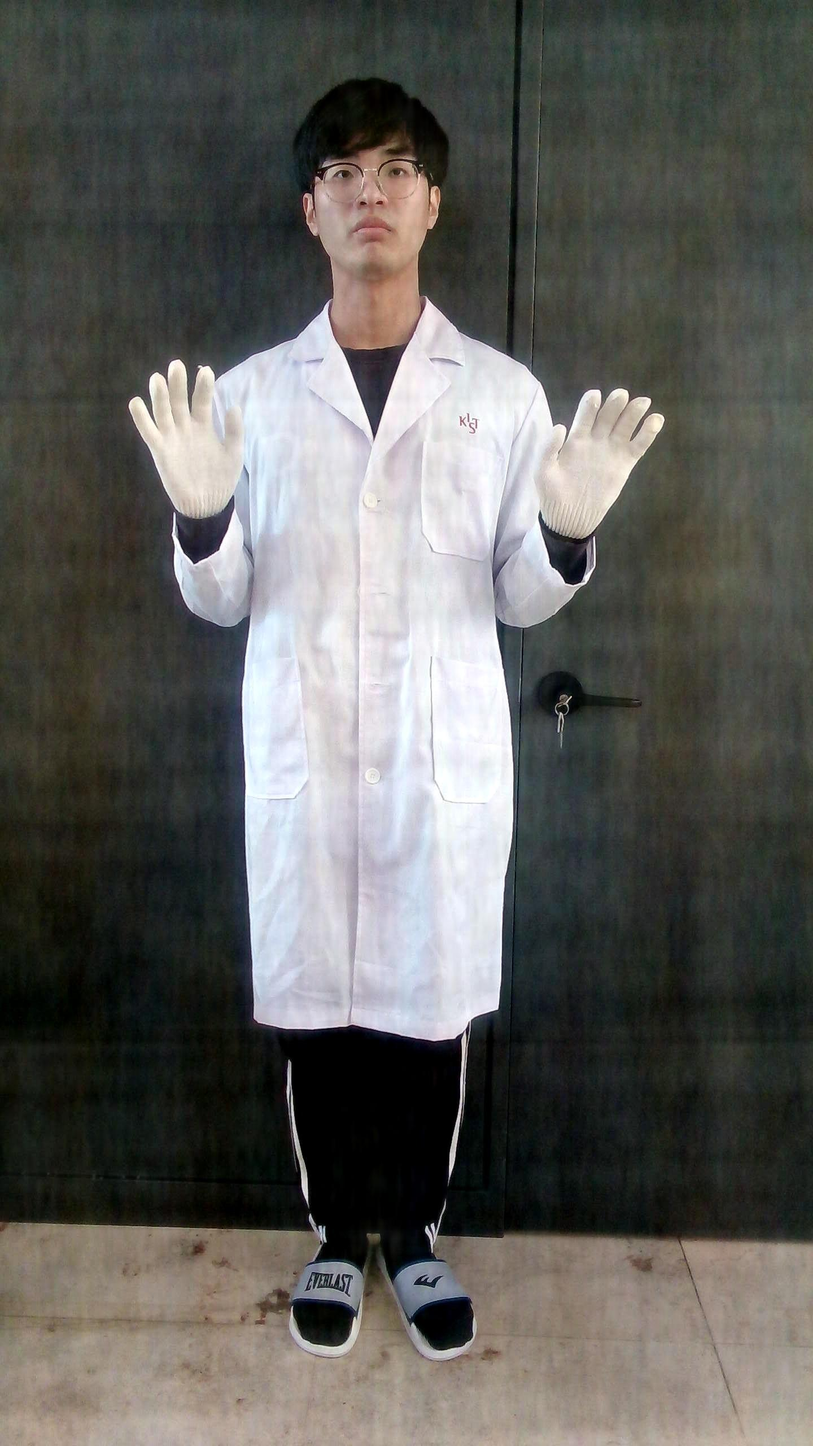Lab_coat: (170, 294, 598, 1044)
